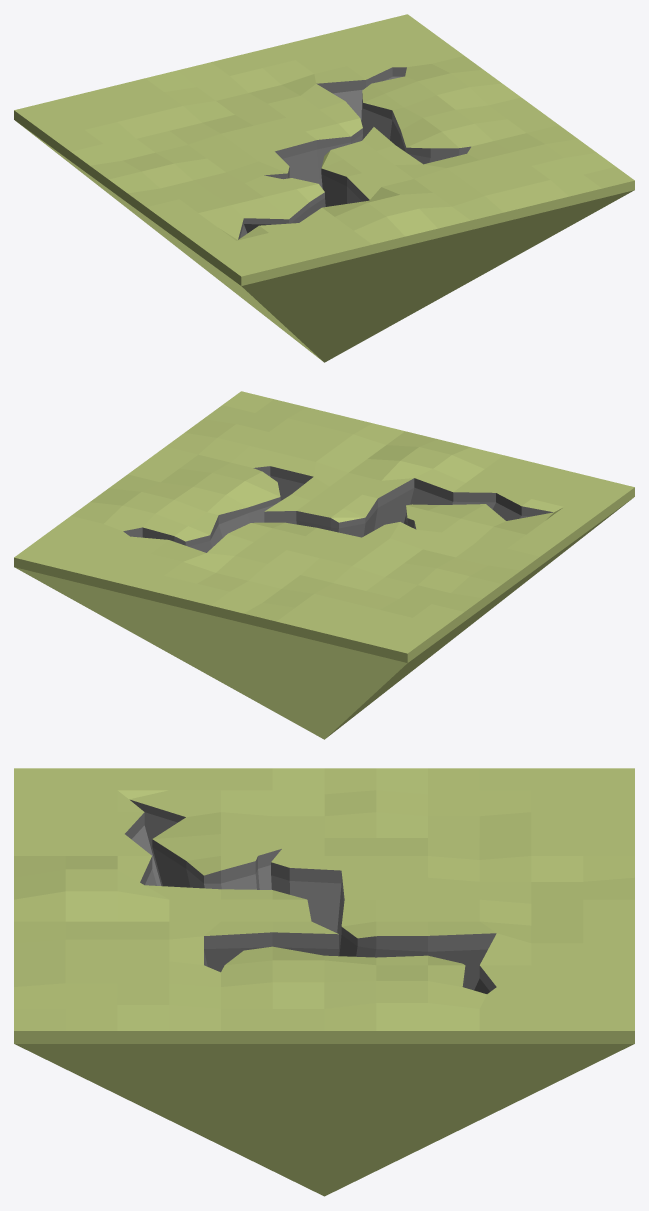
File: Ravine I.fbx
3 renders of one model, top to bottom at view 1: azimuth 30°, elevation 25°; view 2: azimuth 150°, elevation 25°; view 3: azimuth 270°, elevation 25°, orthographic. The views are drawn at different scales.
Visible parts, largest first — view 1: Ravine I; view 2: Ravine I; view 3: Ravine I.
Part boxes in pixels (x1,y1,x2,y2): Ravine I: (14,14,634,362); Ravine I: (14,391,634,739); Ravine I: (14,768,634,1196).
Size of the model in its own units: 1600 by 868 by 1600.
